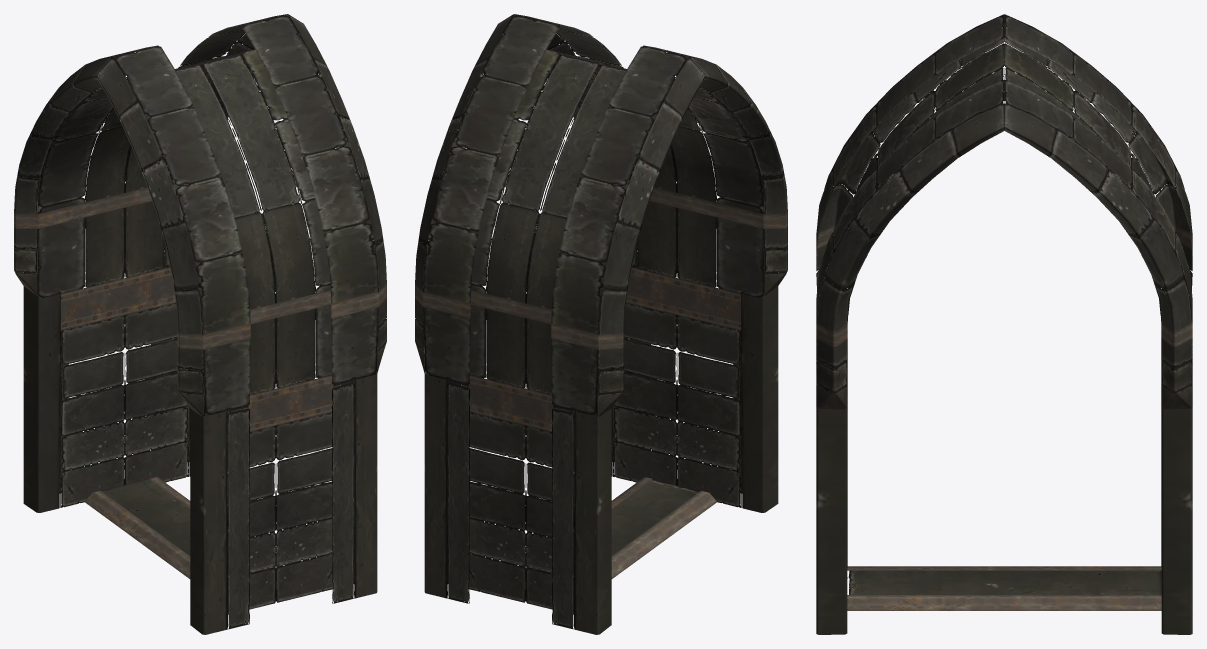
3 views of the same model, side by side, from view 1: azimuth 30°, elevation 25°; view 2: azimuth 150°, elevation 25°; view 3: azimuth 270°, elevation 25° (orthographic). The views are drawn at different scales.
Visible parts, largest first — view 1: SM_Dowdun_Doorway_Insert_01_LOD0; view 2: SM_Dowdun_Doorway_Insert_01_LOD0; view 3: SM_Dowdun_Doorway_Insert_01_LOD0.
Part boxes in pixels (box(x1,y1,x2,y2)): SM_Dowdun_Doorway_Insert_01_LOD0: box(14, 14, 386, 634); SM_Dowdun_Doorway_Insert_01_LOD0: box(415, 14, 787, 634); SM_Dowdun_Doorway_Insert_01_LOD0: box(816, 14, 1192, 634).
Bounding box in the file's own units: 2.57 × 6.08 × 3.9.
1 material, 1 textured.
